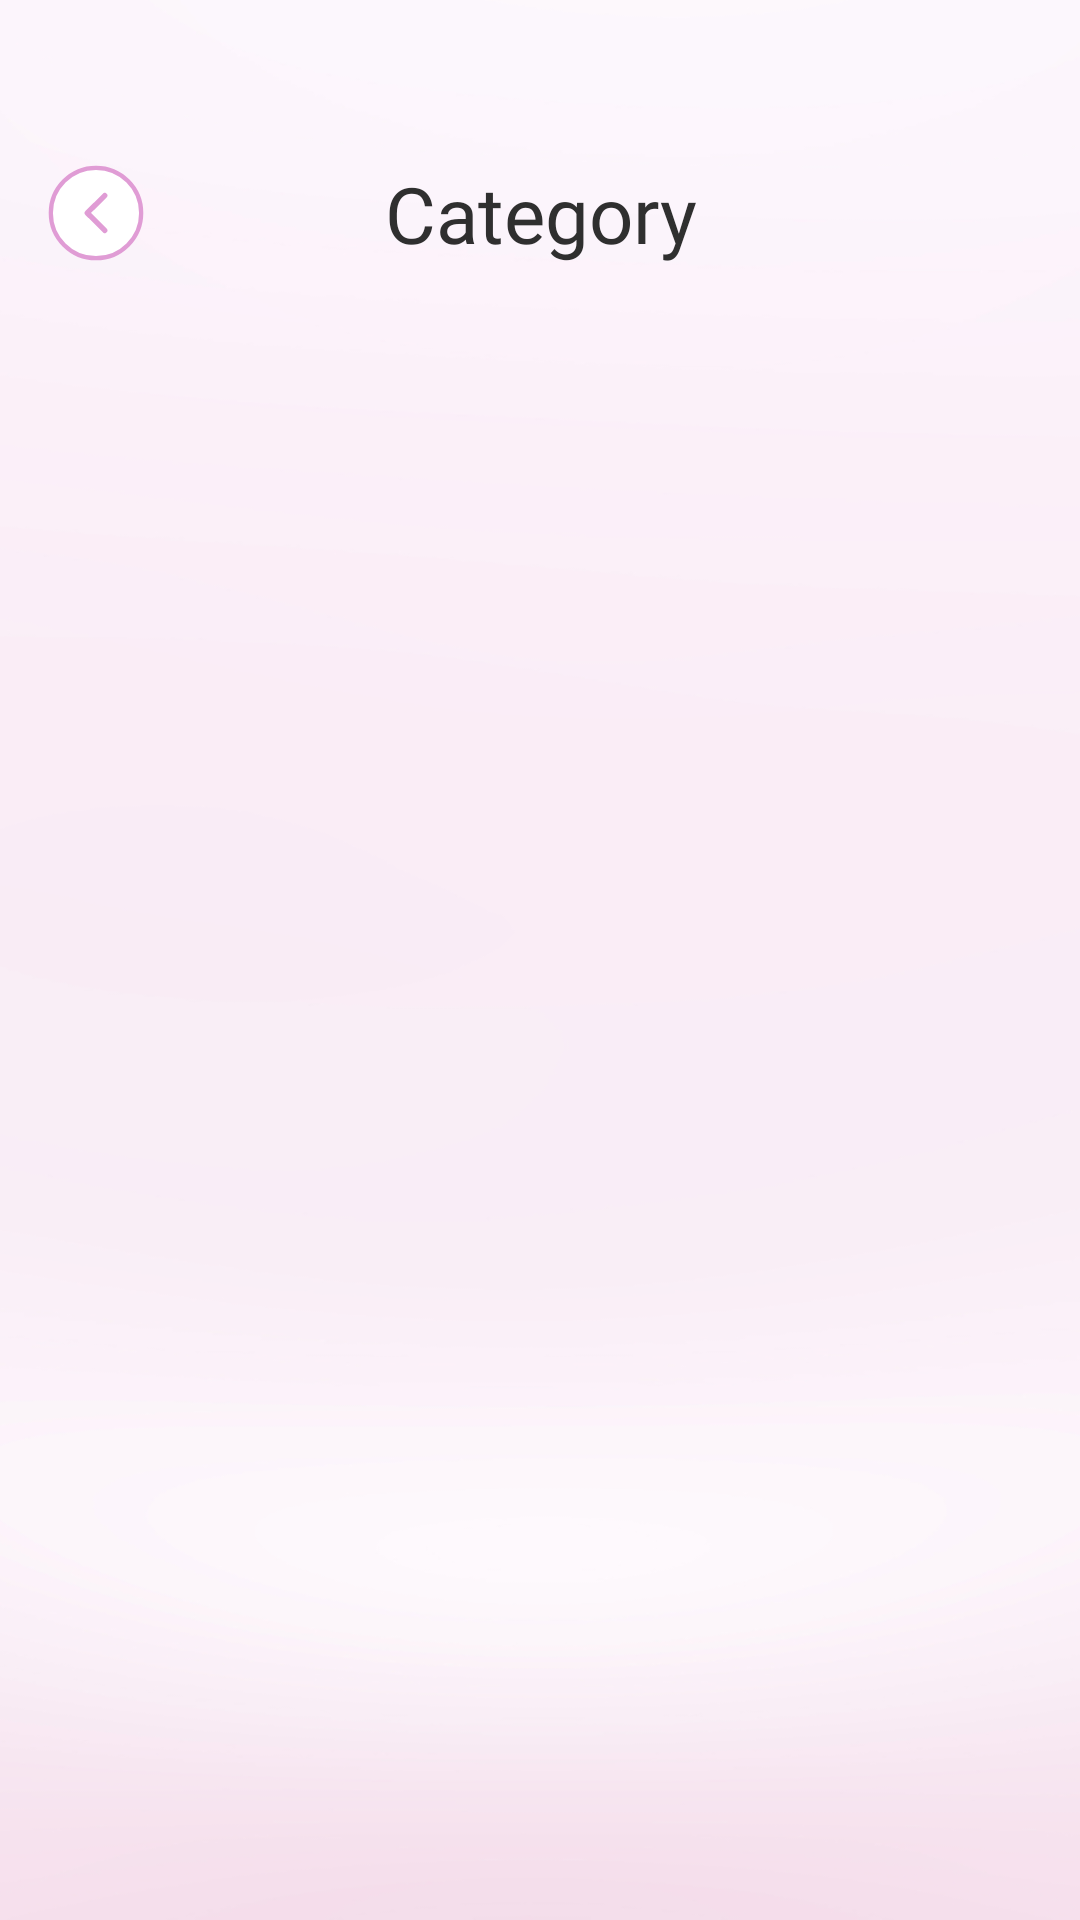

Named icons in this screenshot (1080x1920) and their bounding boxes, [x1,y1,x2,y2]:
imv back: [48,165,144,261]
